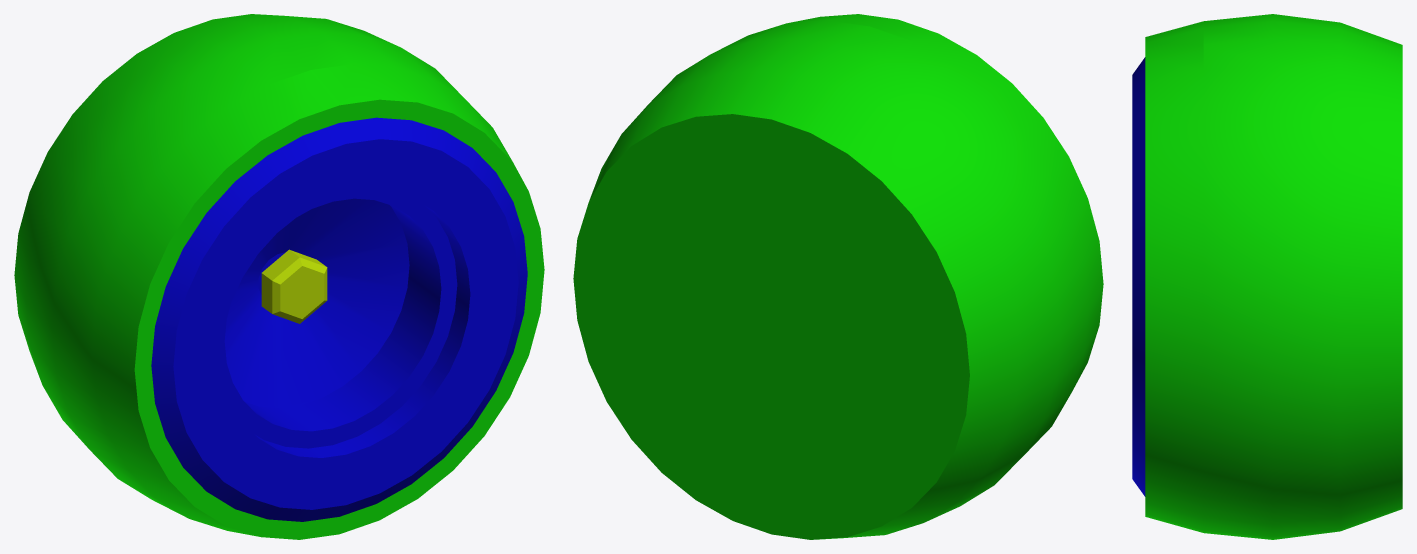
Rendered from wheel_R 3.fbx.
3 renders of one model, left to right at view 1: azimuth 30°, elevation 25°; view 2: azimuth 150°, elevation 25°; view 3: azimuth 270°, elevation 25°, orthographic.
Parts seen in each view (by area): view 1: wheel.015_wheel.000; view 2: wheel.015_wheel.000; view 3: wheel.015_wheel.000.
Boxes of the visible parts, <box> form: wheel.015_wheel.000: <box>14,14,544,539</box>; wheel.015_wheel.000: <box>573,14,1103,539</box>; wheel.015_wheel.000: <box>1132,14,1402,539</box>.
Bounding box in the file's own units: 30.16 × 30.16 × 15.5.
